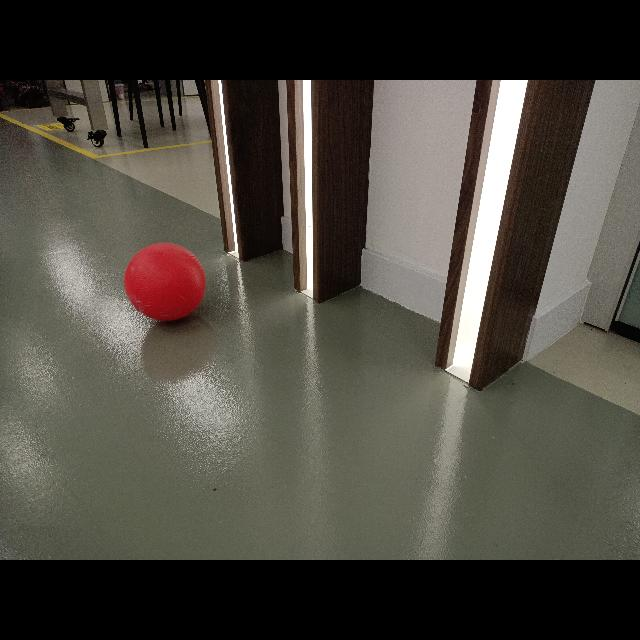R: (124, 238, 208, 324)
